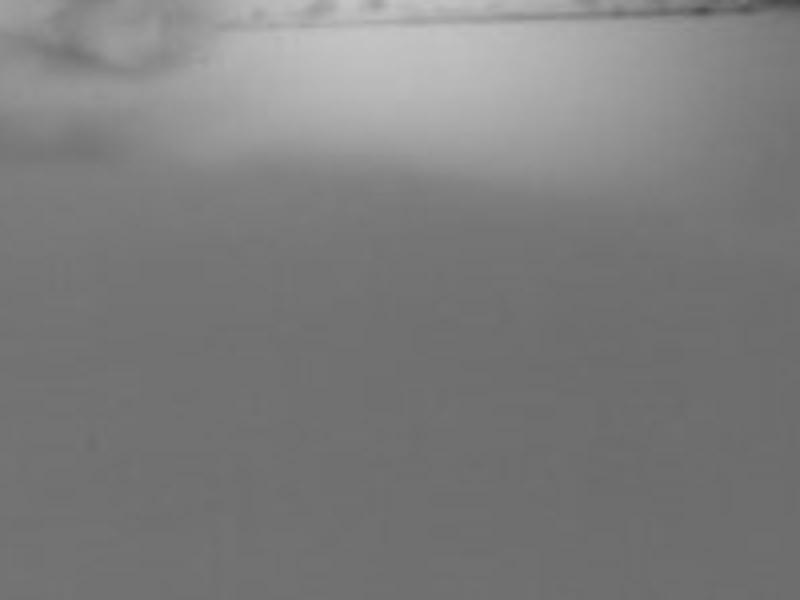defect: (300, 1, 342, 23), (242, 6, 271, 24), (568, 1, 601, 16), (365, 1, 390, 16), (612, 3, 631, 19)
